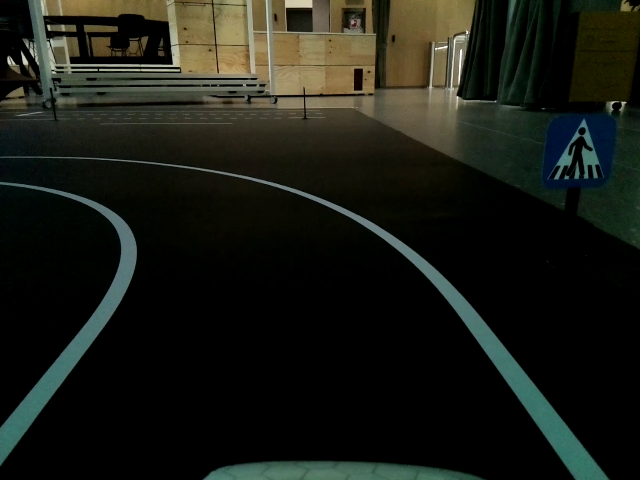pedestrians: (546, 115, 611, 186)
